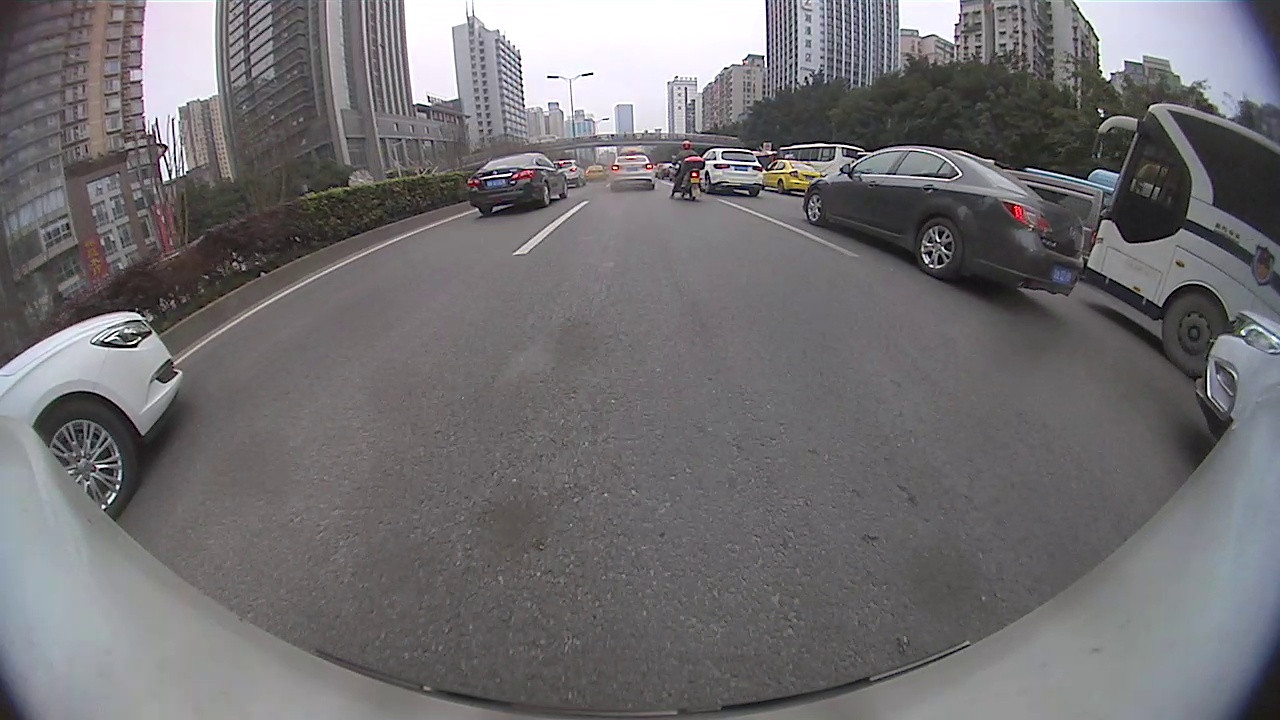bus: (1087, 99, 1279, 376)
car: (805, 143, 1081, 297), (0, 312, 184, 522), (1188, 307, 1279, 436), (1002, 170, 1105, 262), (467, 151, 566, 217), (702, 149, 766, 198), (758, 160, 822, 193), (610, 154, 657, 193)
front: (38, 397, 139, 520), (1162, 294, 1227, 378), (805, 191, 824, 225)
rear: (914, 215, 962, 278), (541, 180, 552, 207)
rider: (670, 140, 703, 198)
